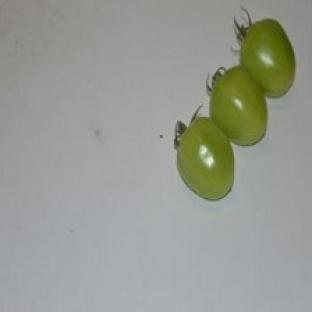Tomato: (236, 16, 295, 97), (176, 117, 233, 199), (209, 66, 267, 146)
